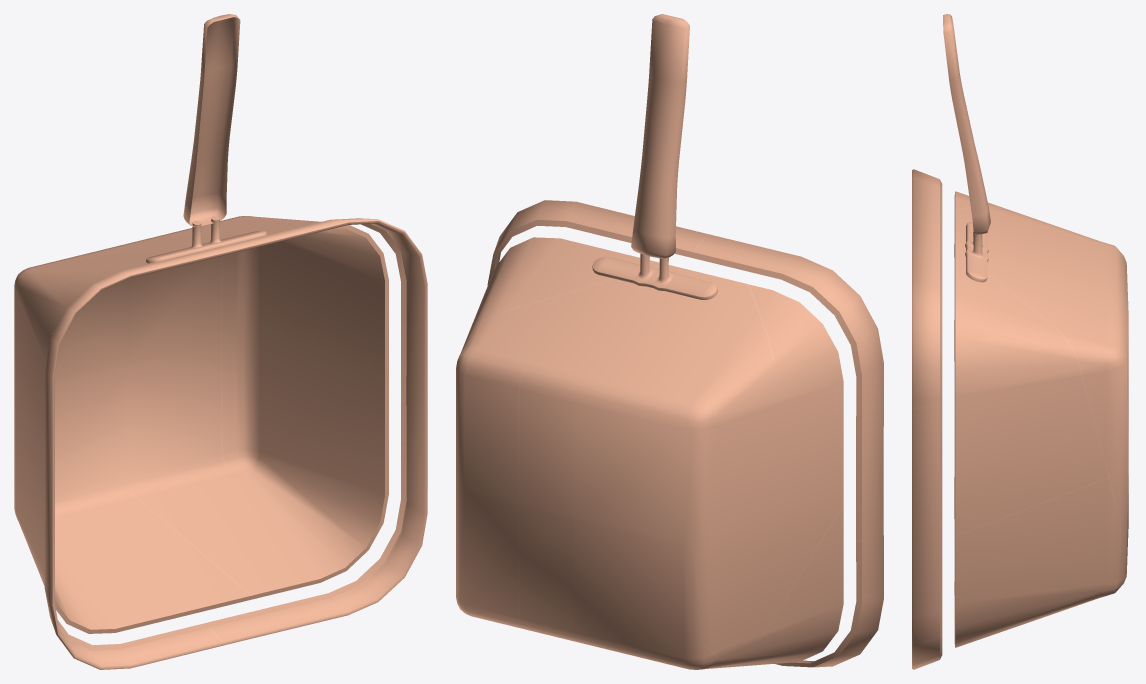
Rendered from MeshPot_7_0_GeomSubset_0.obj.
3 views of the same model, side by side, from view 1: azimuth 30°, elevation 25°; view 2: azimuth 150°, elevation 25°; view 3: azimuth 270°, elevation 25° (orthographic). The views are drawn at different scales.
Visible parts, largest first — view 1: MeshPot_7_0_GeomSubset_0; view 2: MeshPot_7_0_GeomSubset_0; view 3: MeshPot_7_0_GeomSubset_0.
Part boxes in pixels (x1=…): MeshPot_7_0_GeomSubset_0: x1=14, y1=14, x2=427, y2=669; MeshPot_7_0_GeomSubset_0: x1=456, y1=14, x2=883, y2=669; MeshPot_7_0_GeomSubset_0: x1=912, y1=14, x2=1128, y2=669.
Size of the model in its own units: 0.2843 by 0.4414 by 0.1486.
